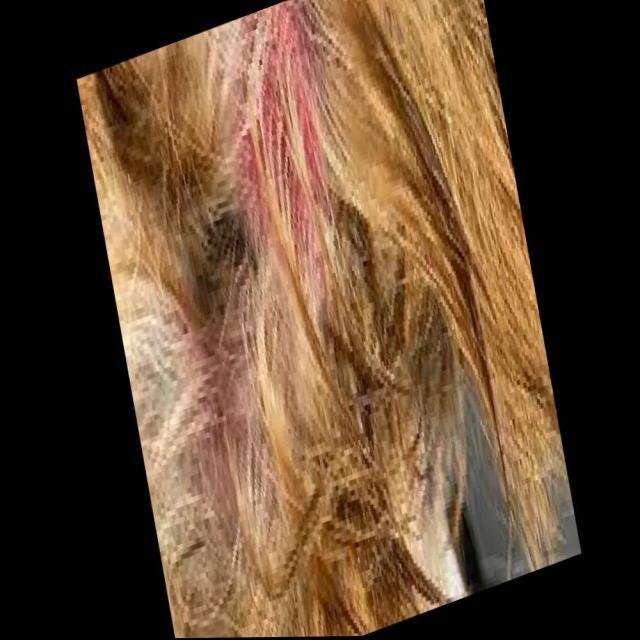allergic dermatitis: (203, 0, 371, 331)
